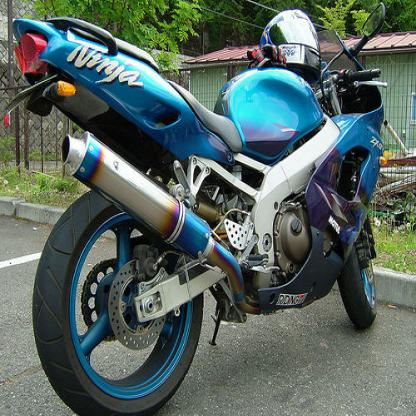motorbike: (3, 2, 390, 415)
